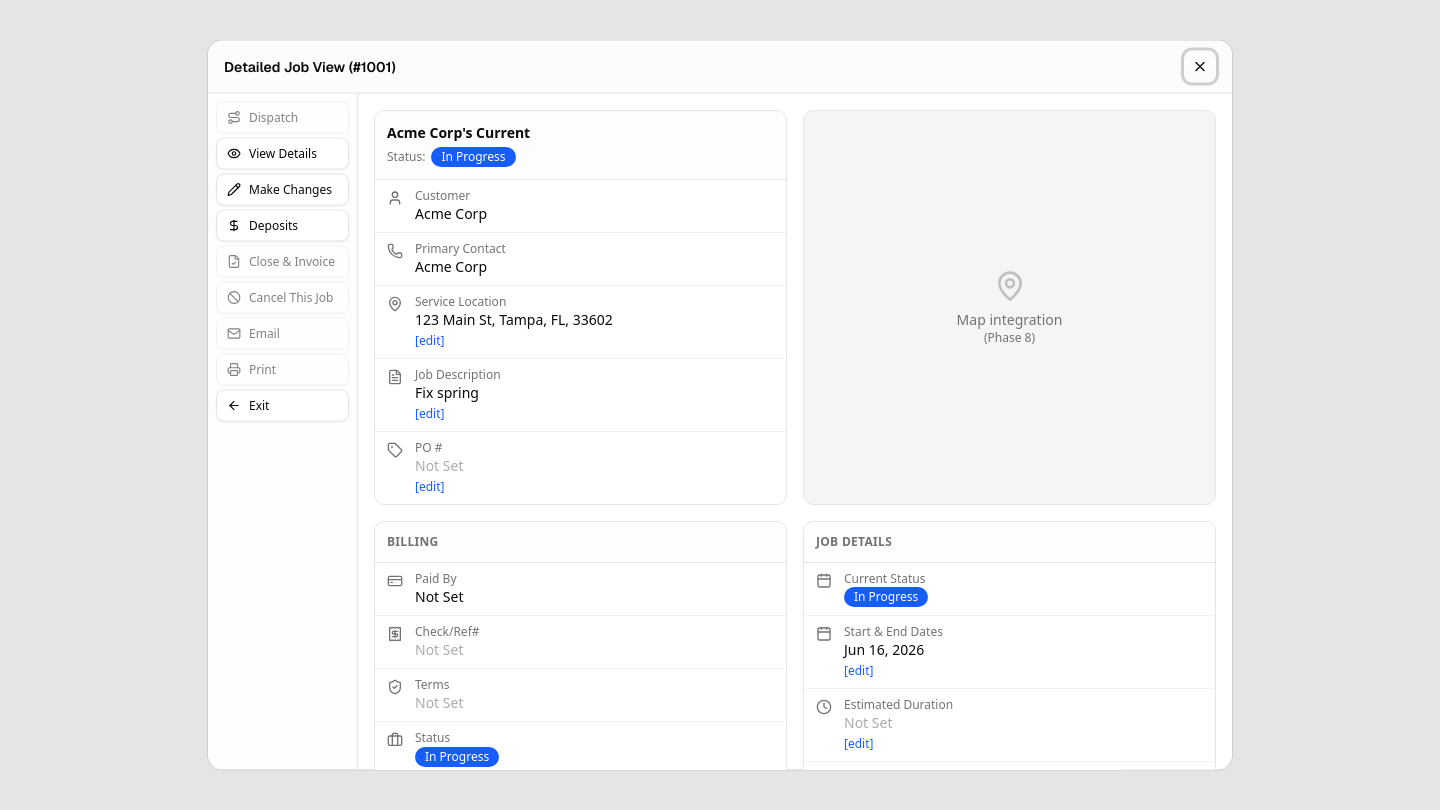
DispatchPopup — Service Location editor › cancels and restores display mode
Step 1. Click the button "[edit]" below "123 Main St, Tampa, FL, 33602" → [430, 340], box [415,332,444,348]
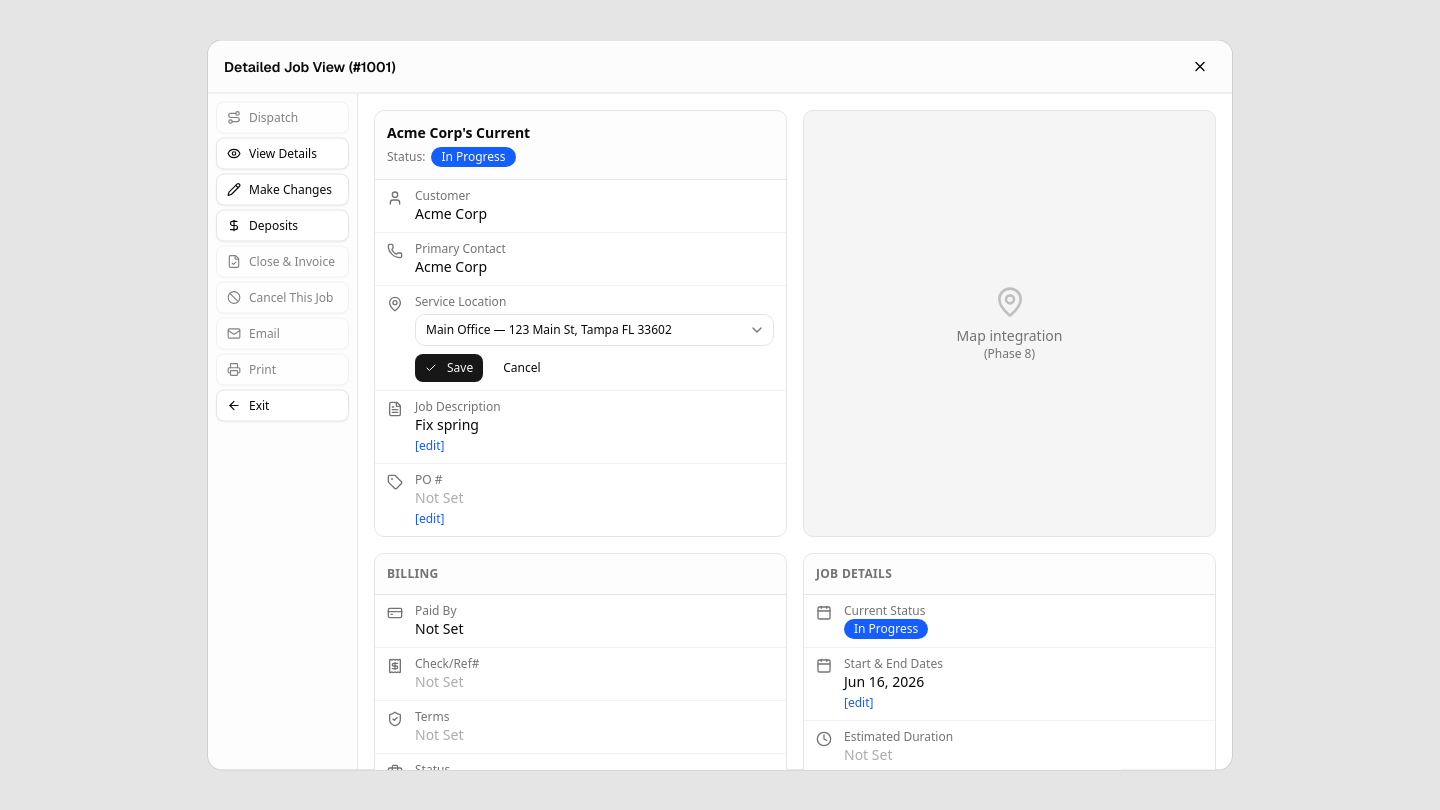
Step 2. Click the button "Cancel" → [522, 368], box [491,354,553,382]
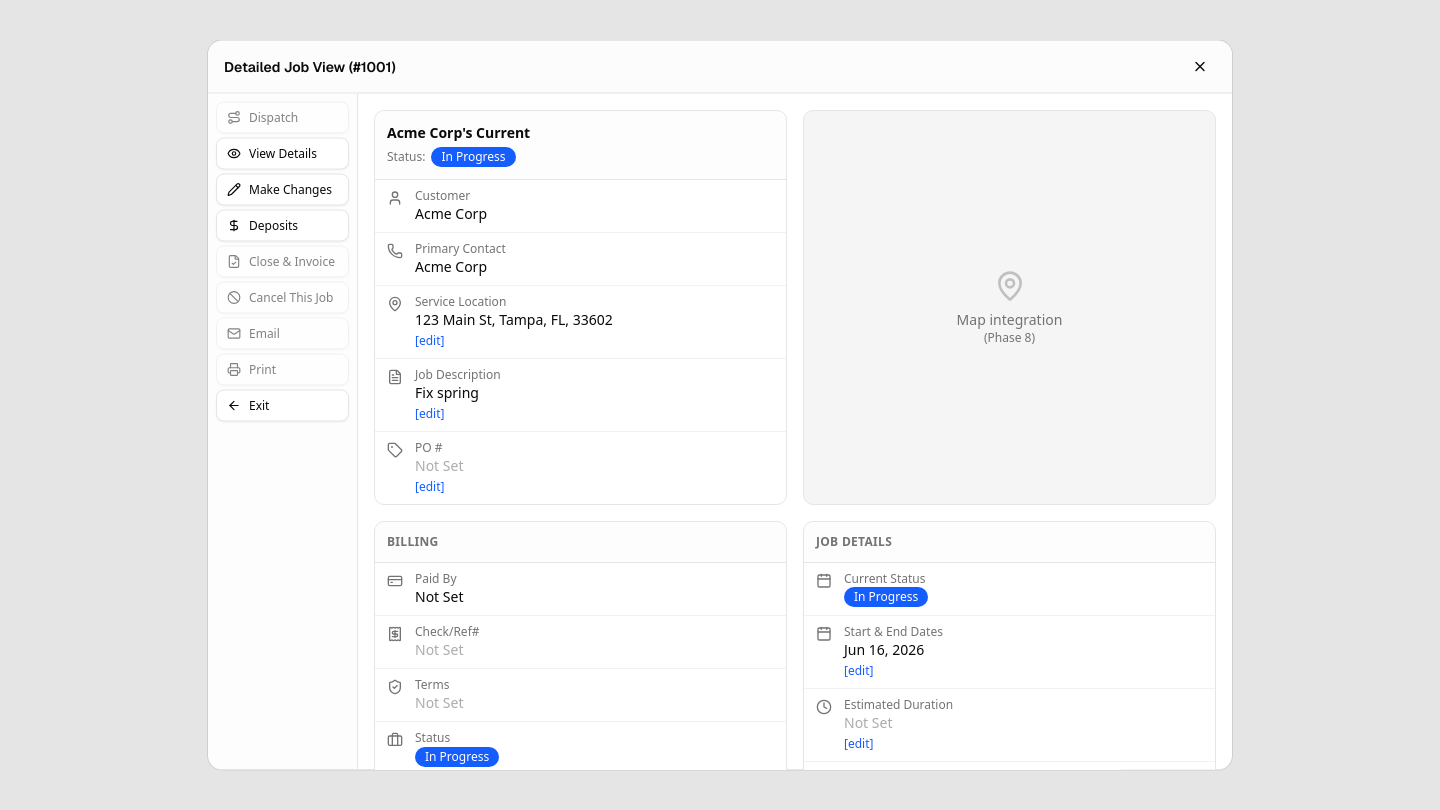
Result: the dropdown is gone
Result: the button "[edit]" below "123 Main St, Tampa, FL, 33602" is shown at [415,332,444,348]
